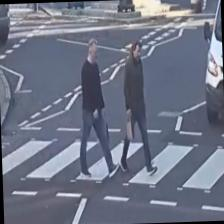person: (76, 37, 120, 176), (116, 38, 156, 176)
